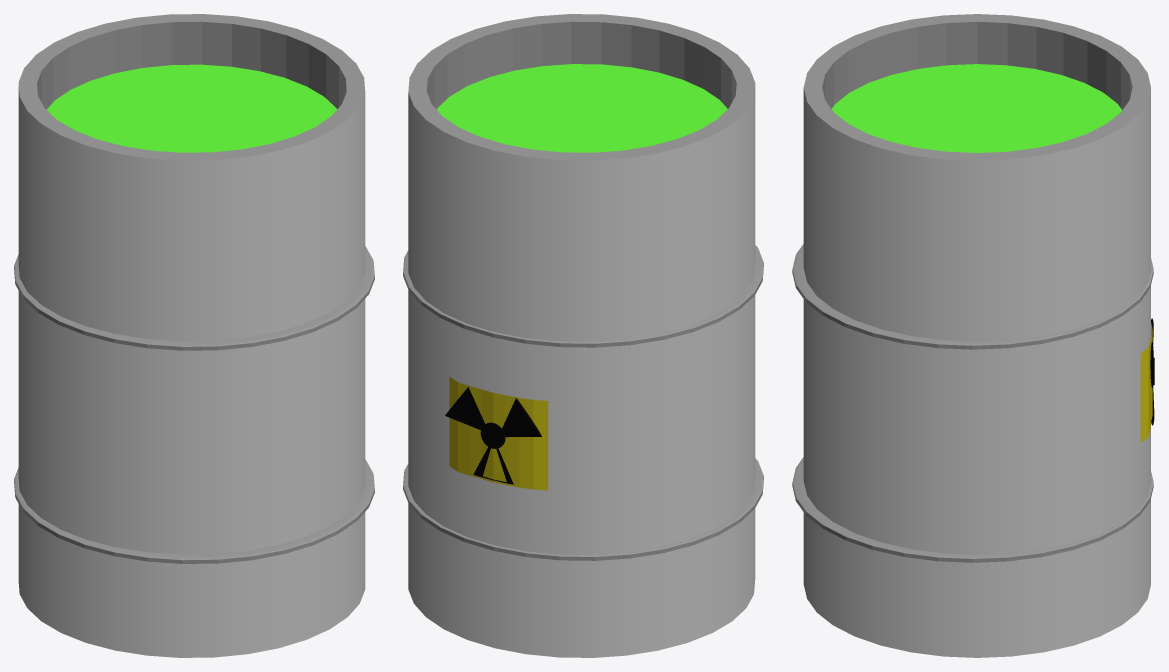
File: Radioactive waste drum.fbx
3 renders of one model, left to right at view 1: azimuth 30°, elevation 25°; view 2: azimuth 150°, elevation 25°; view 3: azimuth 270°, elevation 25°, orthographic.
Parts seen in each view (by area): view 1: Cylinder, Cylinder.003, Cylinder.001, Cylinder.002; view 2: Cylinder, Cylinder.003, Cone.001, Cylinder.002, Cylinder.001; view 3: Cylinder, Cylinder.003, Cylinder.002, Cylinder.001, Cone.001.
Part boxes in pixels (<box>): Cylinder: <box>18,14,365,657</box>; Cylinder.003: <box>47,64,336,152</box>; Cylinder.001: <box>14,459,374,563</box>; Cylinder.002: <box>14,246,374,350</box>; Cylinder: <box>408,14,755,657</box>; Cylinder.003: <box>437,64,727,152</box>; Cone.001: <box>445,376,548,490</box>; Cylinder.002: <box>403,245,763,347</box>; Cylinder.001: <box>403,458,763,560</box>; Cylinder: <box>803,14,1150,657</box>; Cylinder.003: <box>832,64,1122,152</box>; Cylinder.002: <box>792,244,1153,349</box>; Cylinder.001: <box>792,457,1153,562</box>; Cone.001: <box>1140,318,1154,442</box>.
Bounding box in the file's own units: 577 × 877 × 579.
